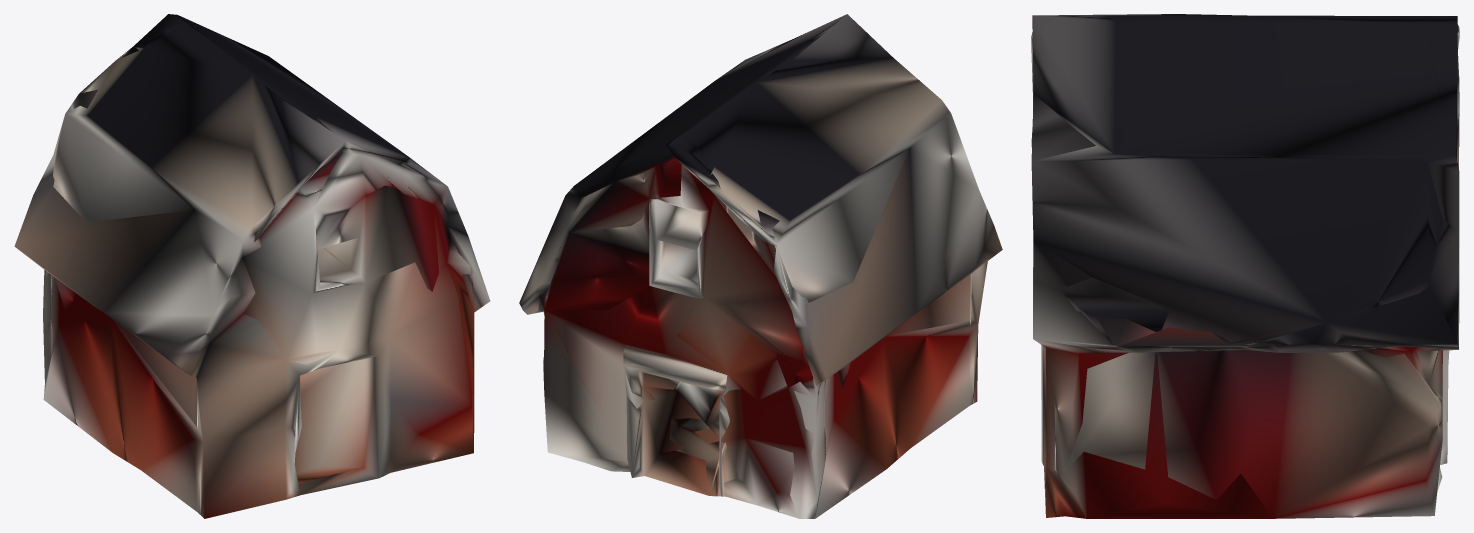
The model's file is gen3d-red-barn-lod1.glb.
3 renders of one model, left to right at view 1: azimuth 30°, elevation 25°; view 2: azimuth 150°, elevation 25°; view 3: azimuth 270°, elevation 25°, orthographic. The views are drawn at different scales.
Visible parts, largest first — view 1: part_0; view 2: part_0; view 3: part_0.
Boxes of the visible parts, <box> form: part_0: <box>14,14,490,518</box>; part_0: <box>519,14,1002,518</box>; part_0: <box>1031,14,1459,518</box>.
Size of the model in its own units: 0.9216 by 0.998 by 0.9133.
